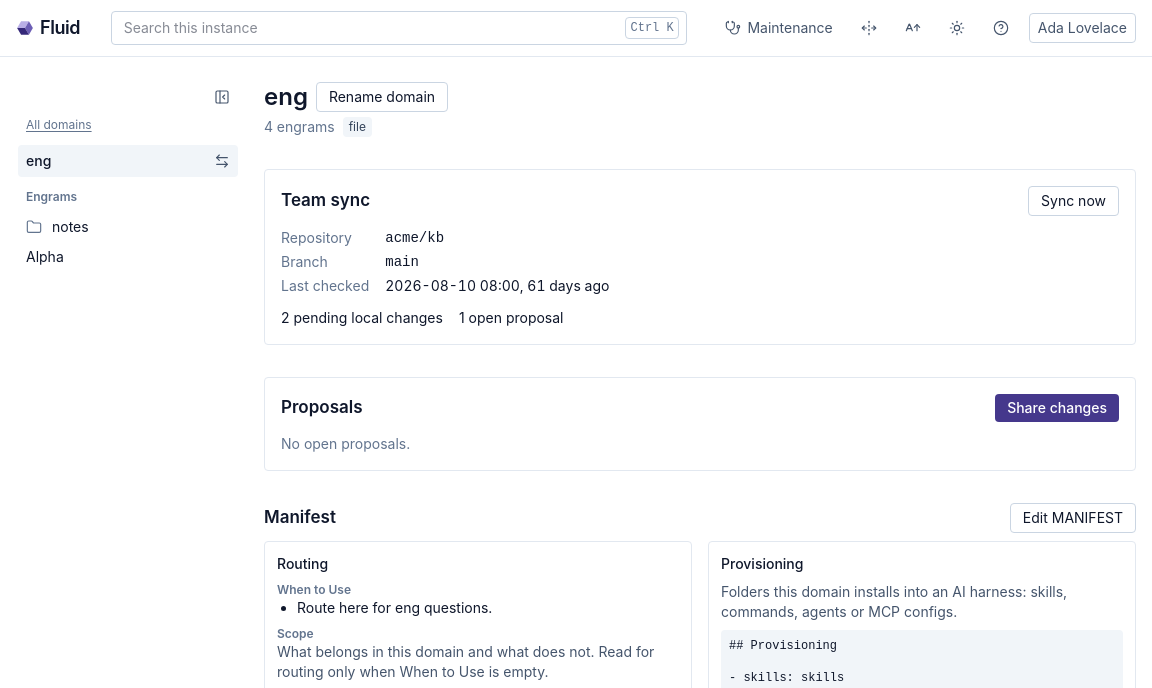
Test case: the team sync card › keeps the numbers it already showed when a later check is refused
The image size is (1152, 688).
Expected: the text "acme/kb" is shown, [385, 230, 444, 246]
Click the button "Sync now" at (1074,201), box [1028, 186, 1119, 216]
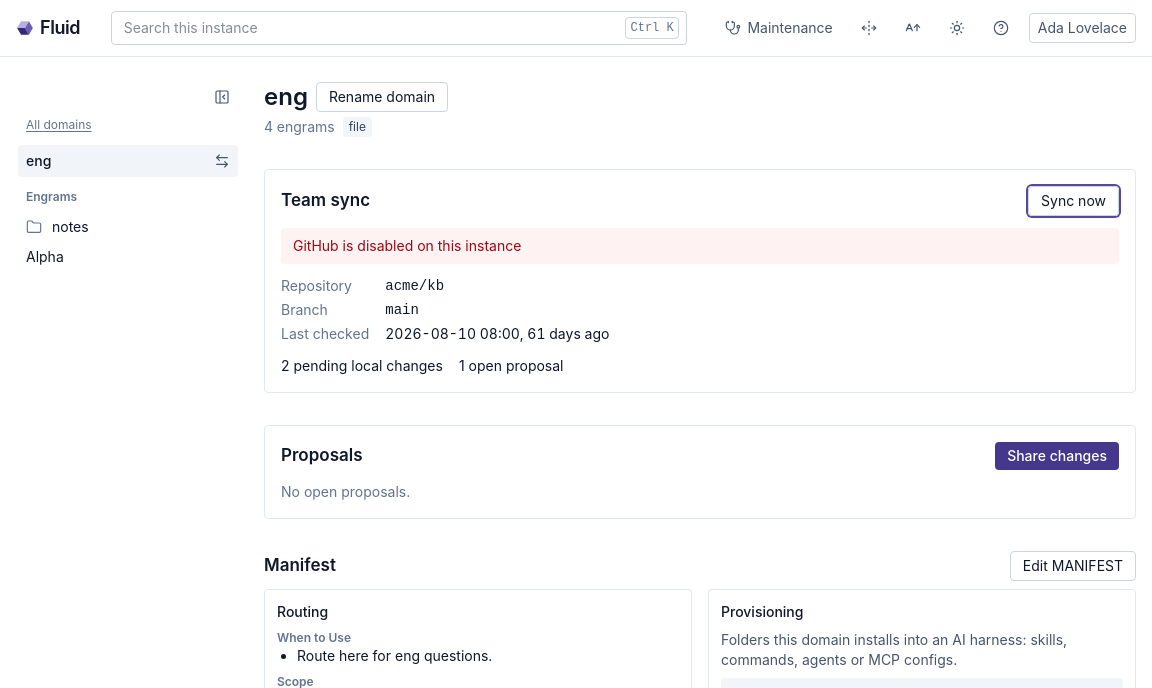
Expected: the text "acme/kb" is shown, [385, 278, 444, 294]
Now the message reads "GitHub is disabled on this instance", box [293, 237, 521, 254]
